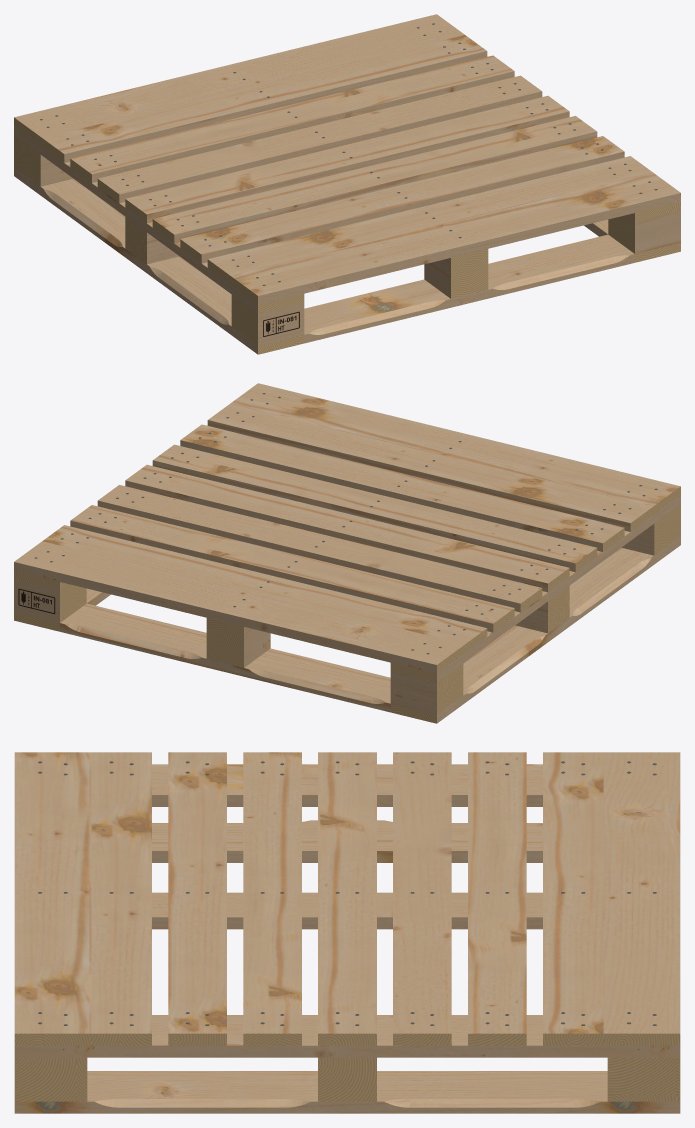
File: pw08-pinewood-pallet-1100x1100-chamfered.glb
3 renders of one model, top to bottom at view 1: azimuth 30°, elevation 25°; view 2: azimuth 150°, elevation 25°; view 3: azimuth 270°, elevation 25°, orthographic. The views are drawn at different scales.
Visible parts, largest first — view 1: pw08-pinewood-pallet-1100x1100-chamfered; view 2: pw08-pinewood-pallet-1100x1100-chamfered; view 3: pw08-pinewood-pallet-1100x1100-chamfered.
Part boxes in pixels (box(x1,y1,x2,y2)): pw08-pinewood-pallet-1100x1100-chamfered: box(14, 14, 680, 354); pw08-pinewood-pallet-1100x1100-chamfered: box(14, 383, 680, 723); pw08-pinewood-pallet-1100x1100-chamfered: box(14, 752, 680, 1113).
Bounding box in the file's own units: 1.1 × 0.147 × 1.1.
Materials: 4 (3 with a texture image).
